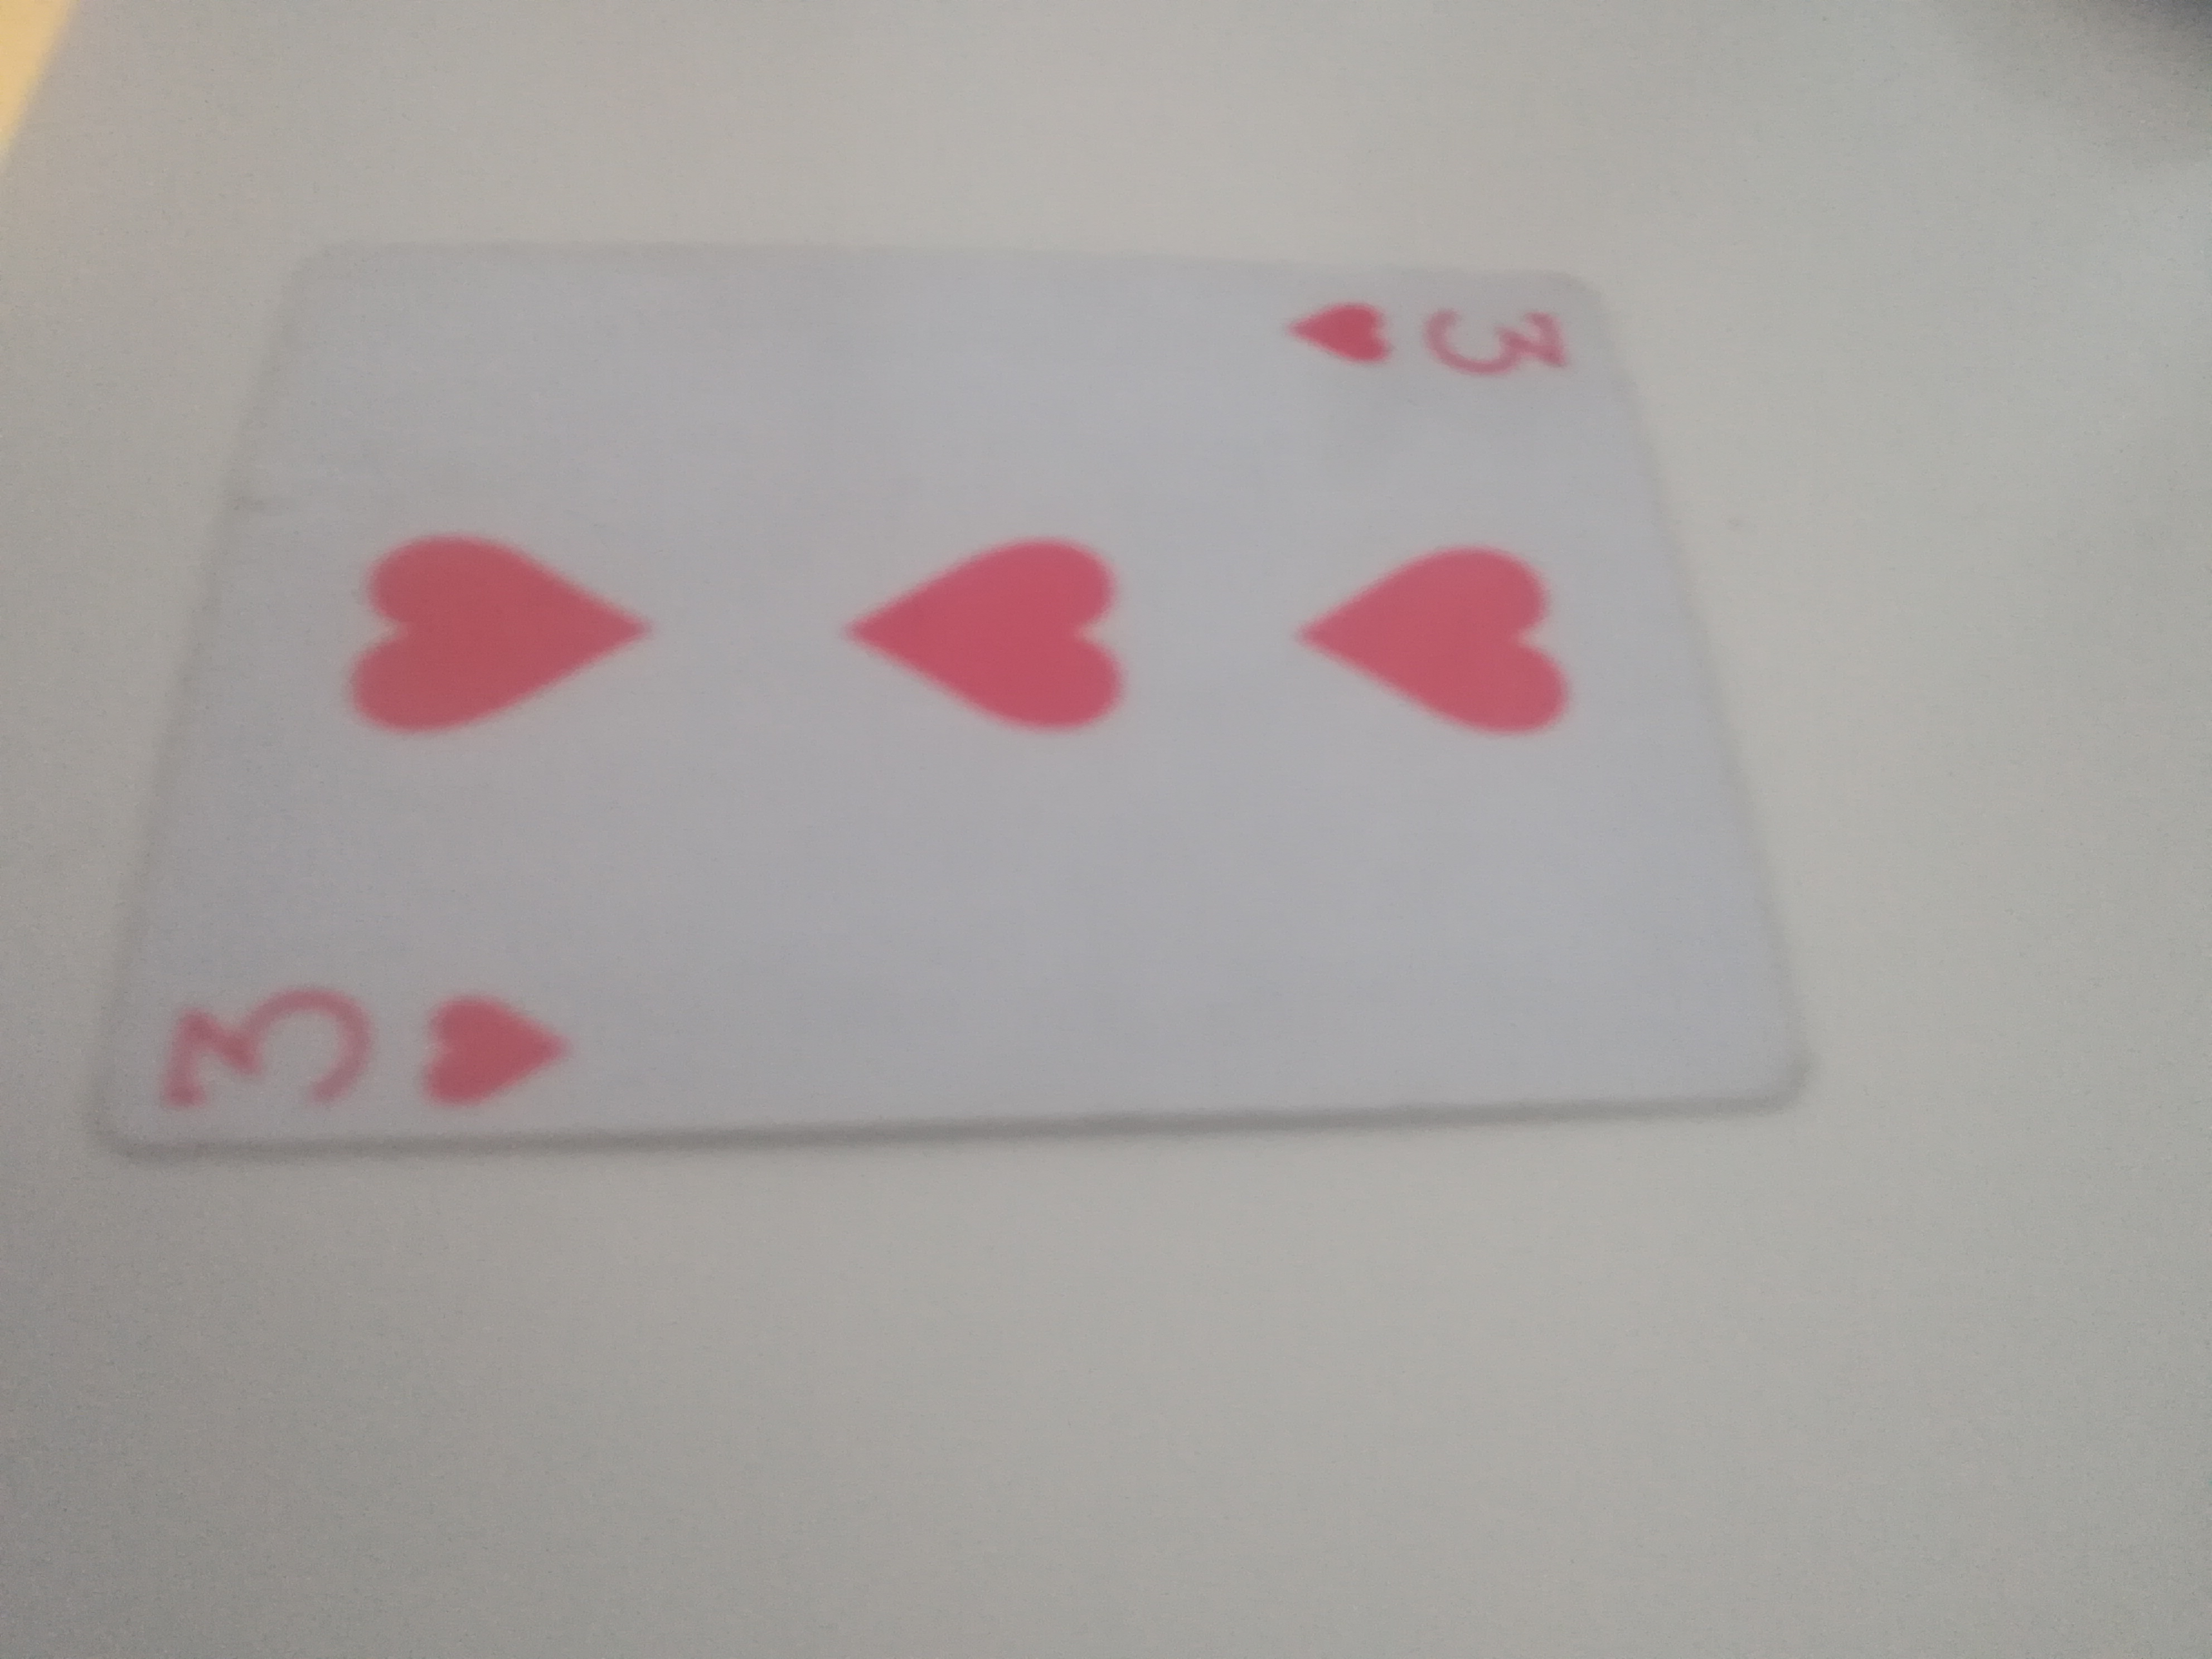3D: (91, 230, 1851, 1150)
3H: (110, 225, 1824, 1131)
